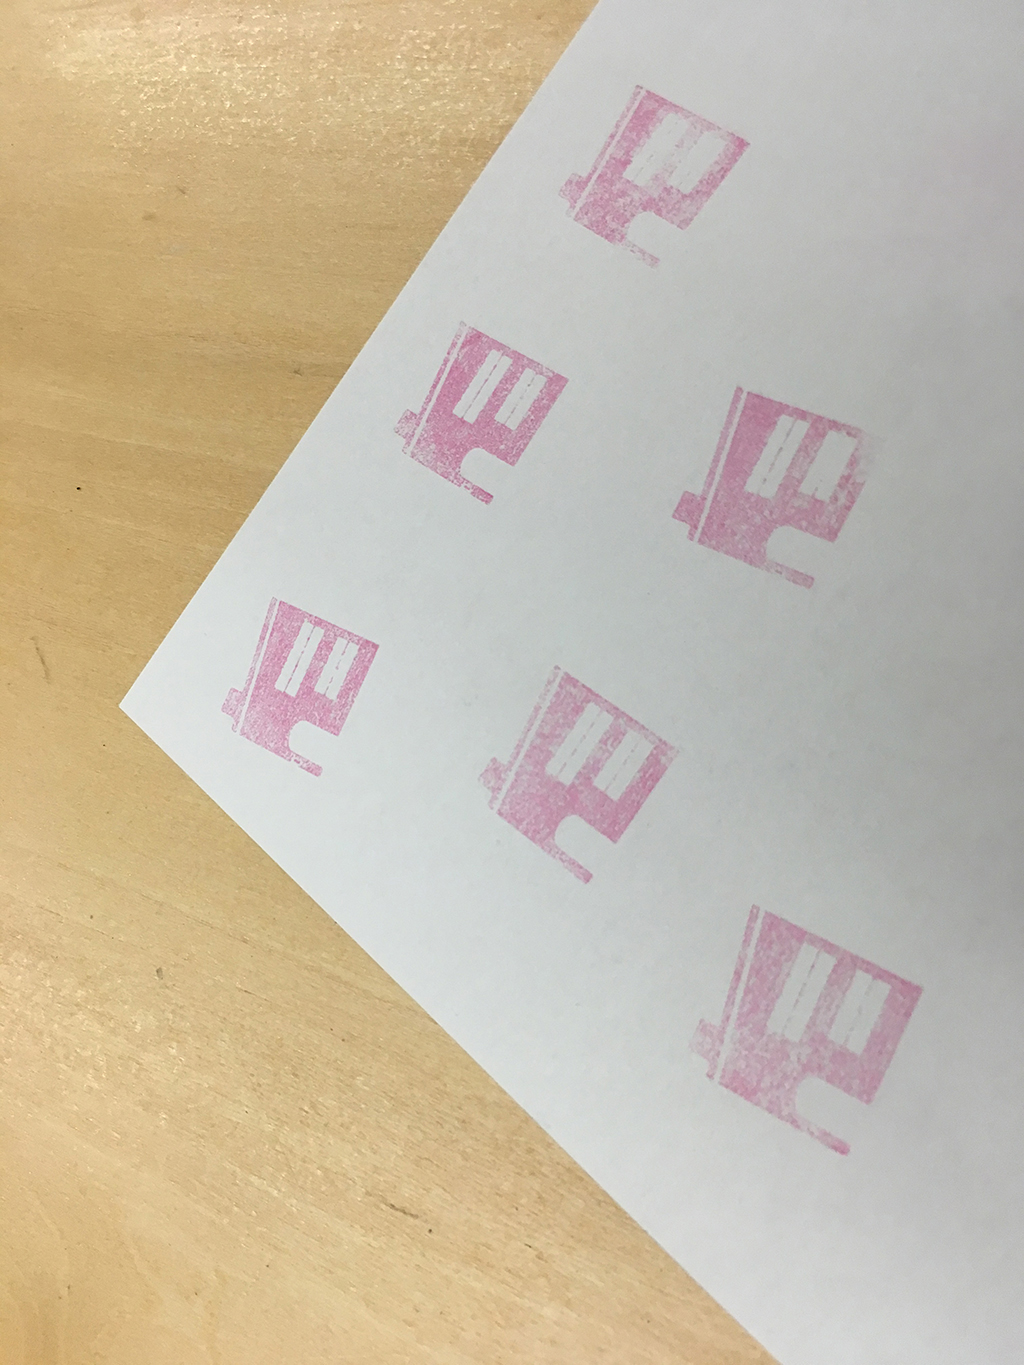house: (673, 879, 936, 1178), (655, 352, 891, 605), (466, 639, 689, 905), (545, 70, 774, 282), (386, 313, 577, 520), (212, 583, 394, 793)
